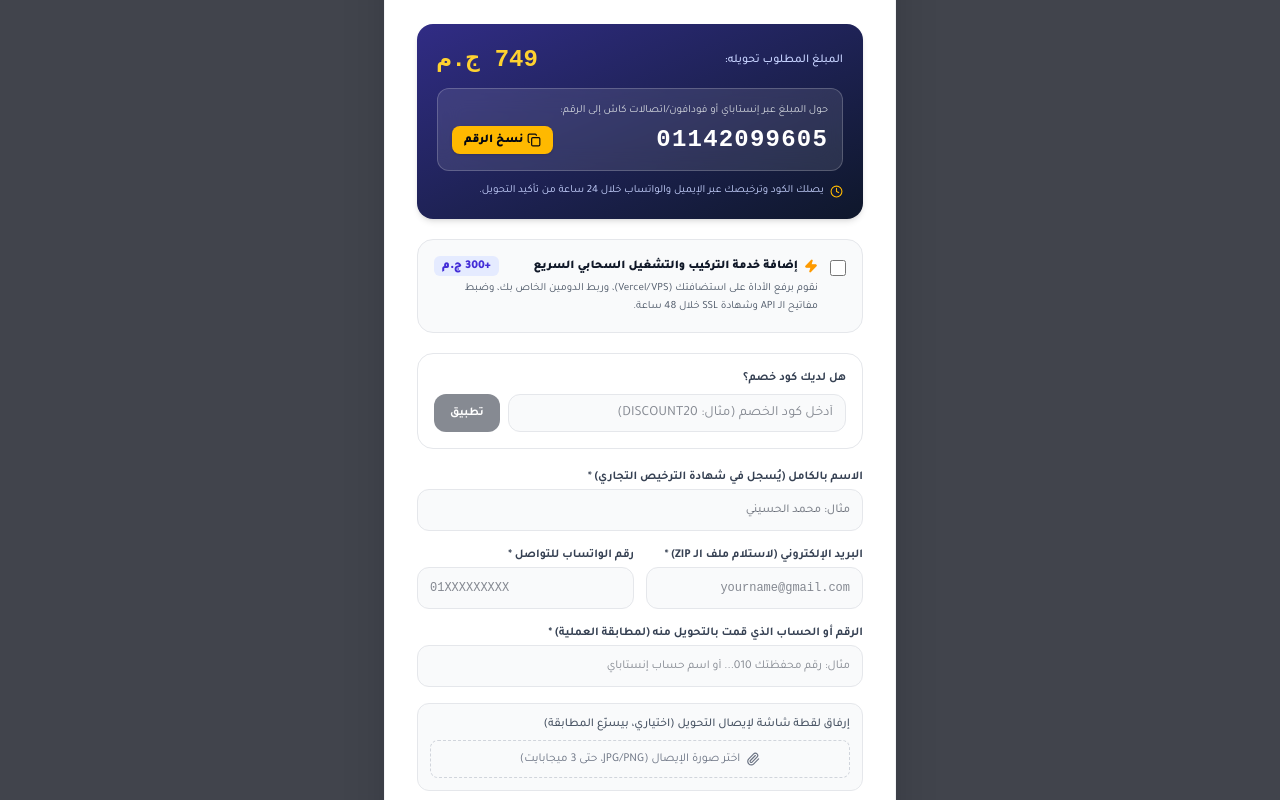
Test: CheckoutModal › shows an error and does not reveal the success screen when the server rejects the order
Type "أحمد سامي" into the field with placeholder "مثال: محمد الحسيني". click: point(640, 510)
box: [417,489,863,531]
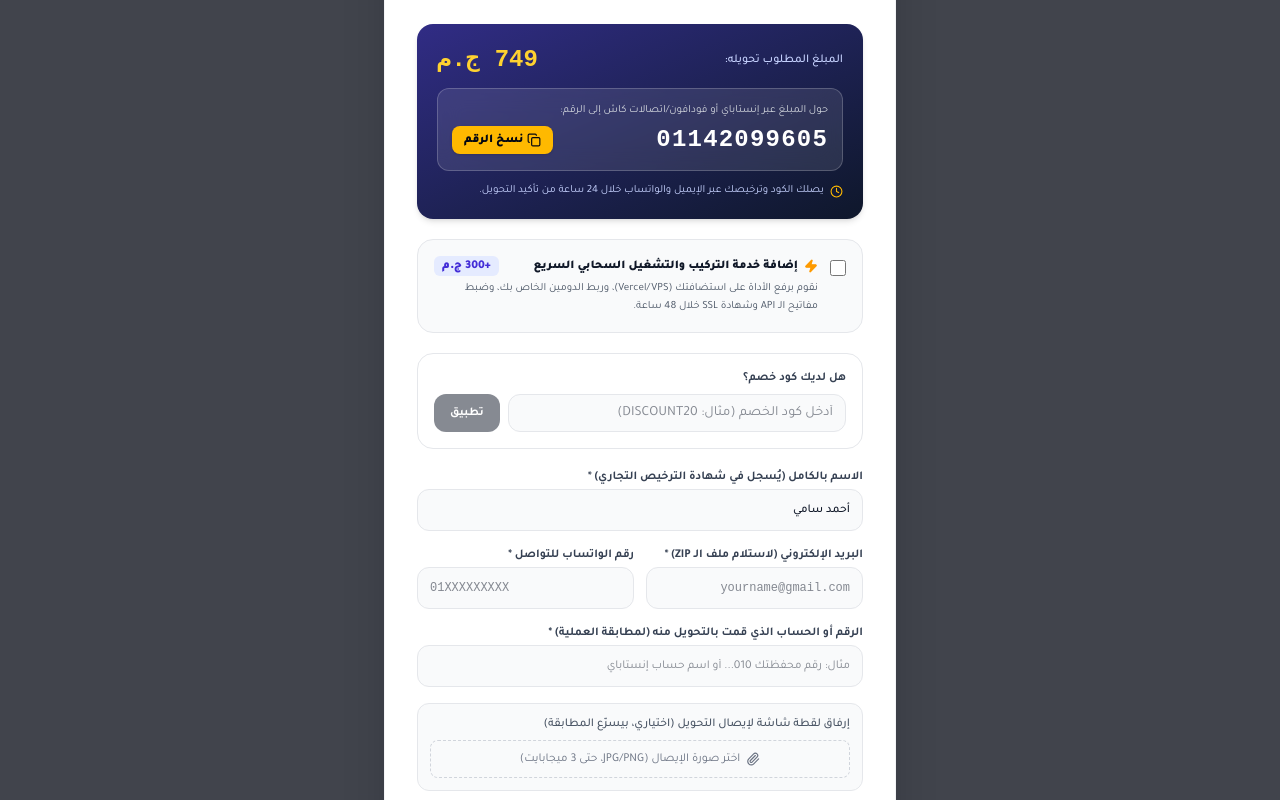
Type "ahmed@example.com" into the field with placeholder "yourname@gmail.com". click: point(754, 588)
box: [646,567,863,609]
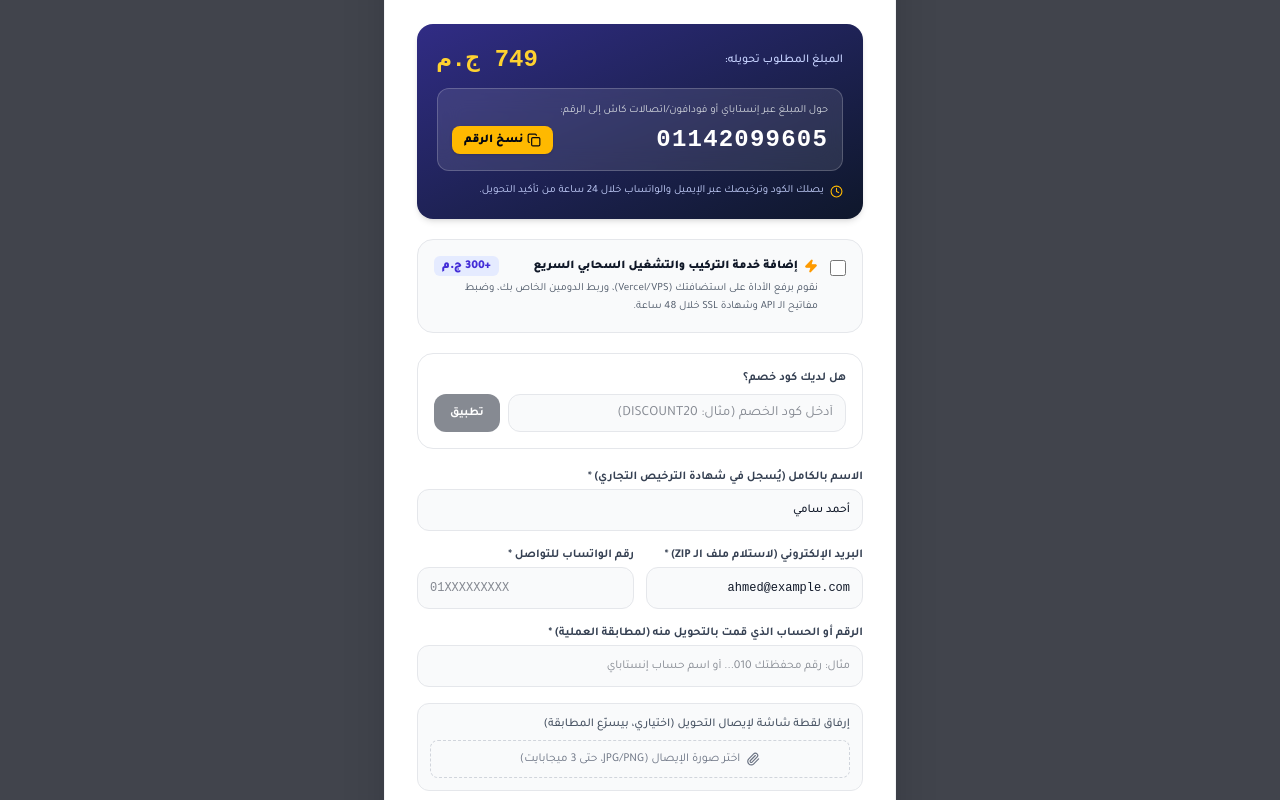
Type "01012345678" into the field with placeholder "01XXXXXXXXX". click: point(526, 588)
box: [417,567,634,609]
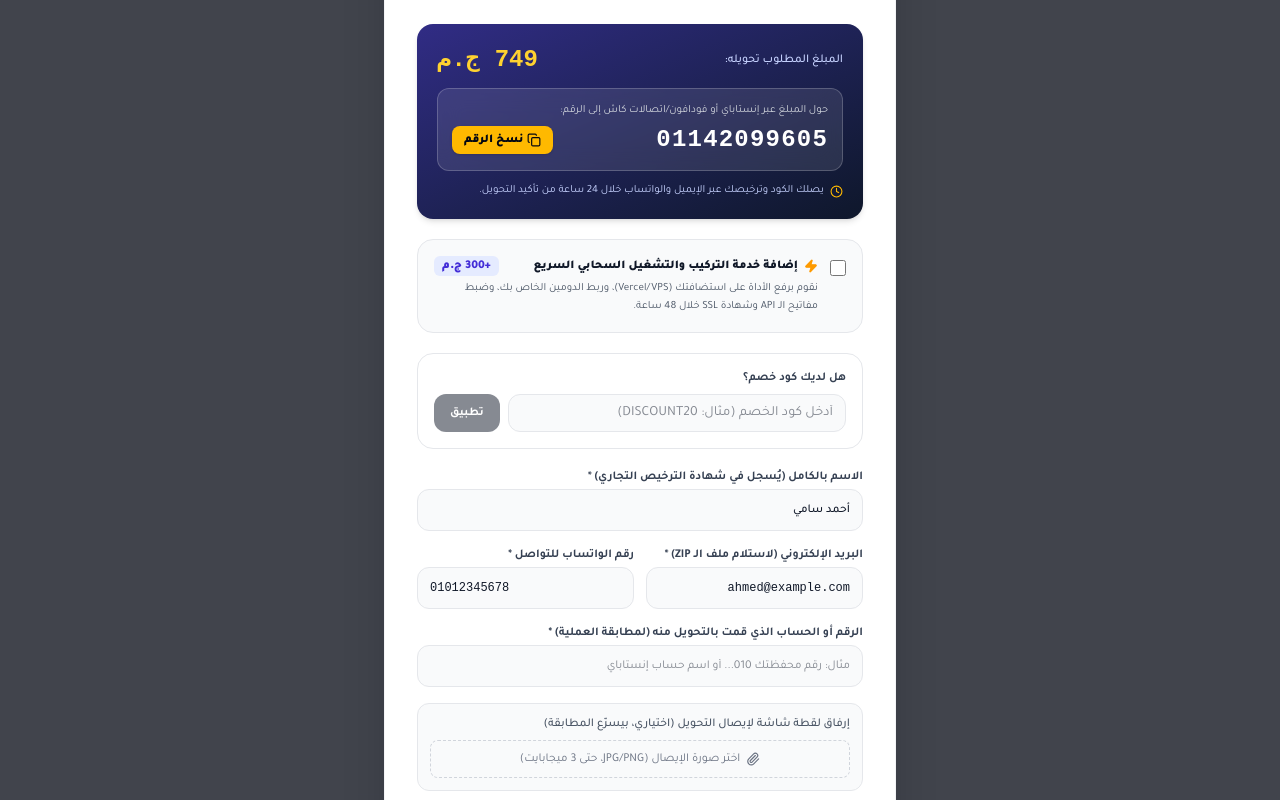
Type "01012345678" into the field with placeholder "مثال: رقم محفظتك 010... أو اسم حساب إنستاباي". click: point(640, 666)
box: [417,645,863,687]
(page scrolled)
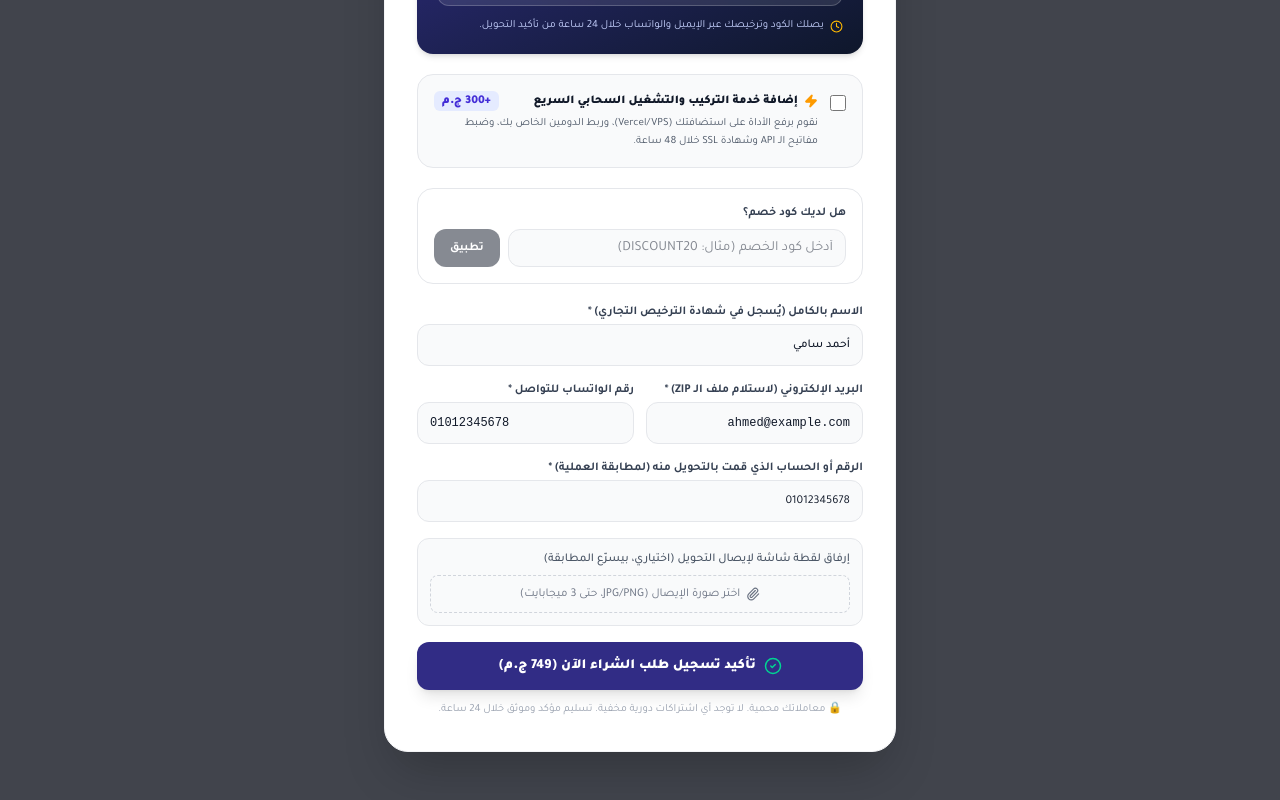
Click the button "تأكيد تسجيل طلب الشراء الآن (749 ج.م)". click: point(640, 666)
box: [417,642,863,690]
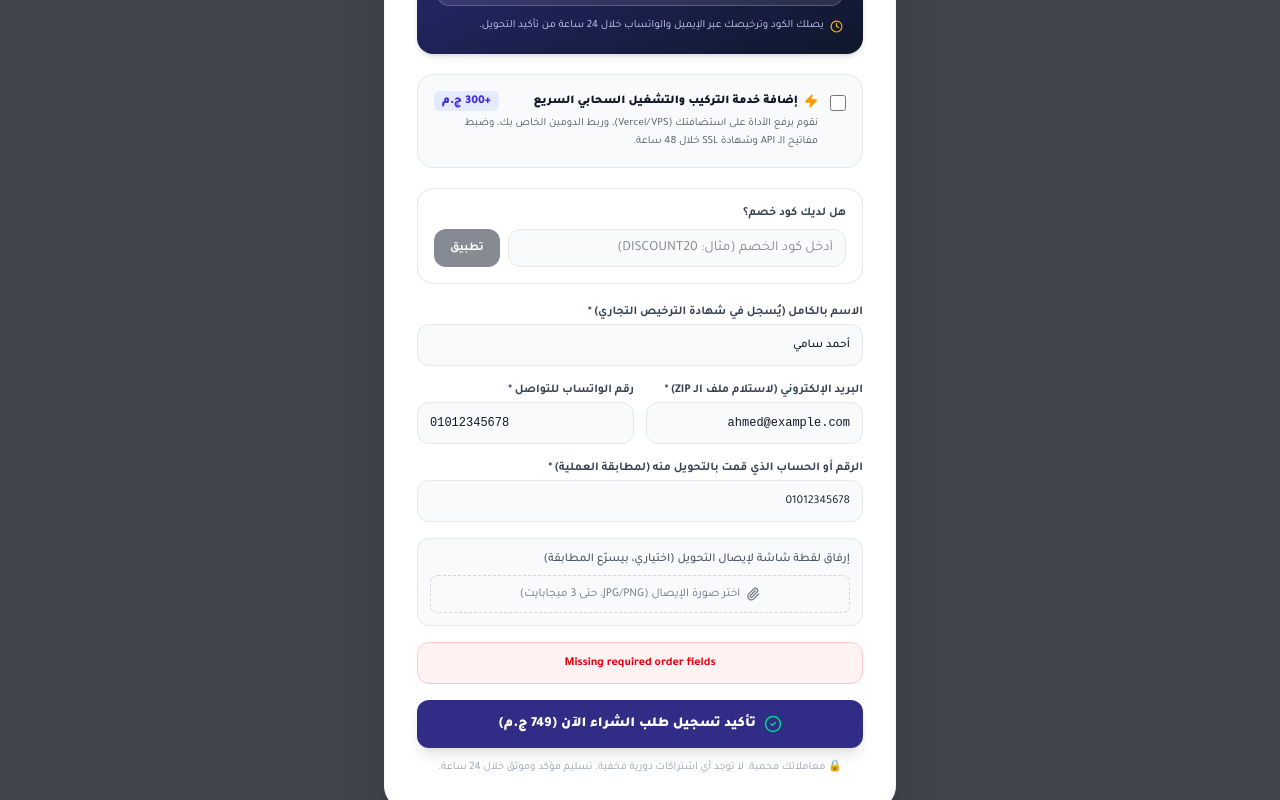
Result: the text "Missing required order fields" is shown at [417,642,863,684]
